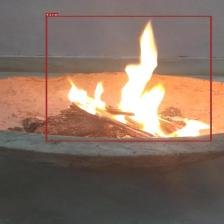fire: (46, 16, 212, 141)
